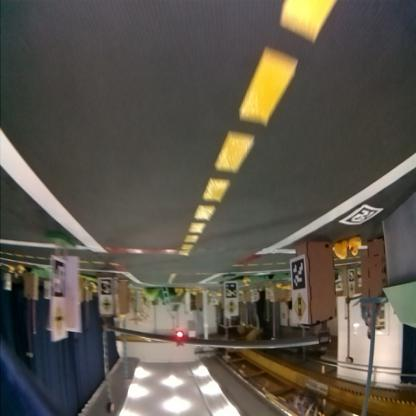Duckie: (349, 240, 362, 257), (336, 244, 348, 260), (246, 279, 252, 287)
Intersection sign: (54, 304, 68, 338), (100, 298, 112, 312)
QR code: (340, 207, 383, 226), (292, 259, 307, 290), (54, 260, 65, 298), (100, 280, 112, 294), (226, 284, 236, 298)
Signal sign: (292, 293, 308, 321)
Traffic light: (176, 332, 184, 347)
